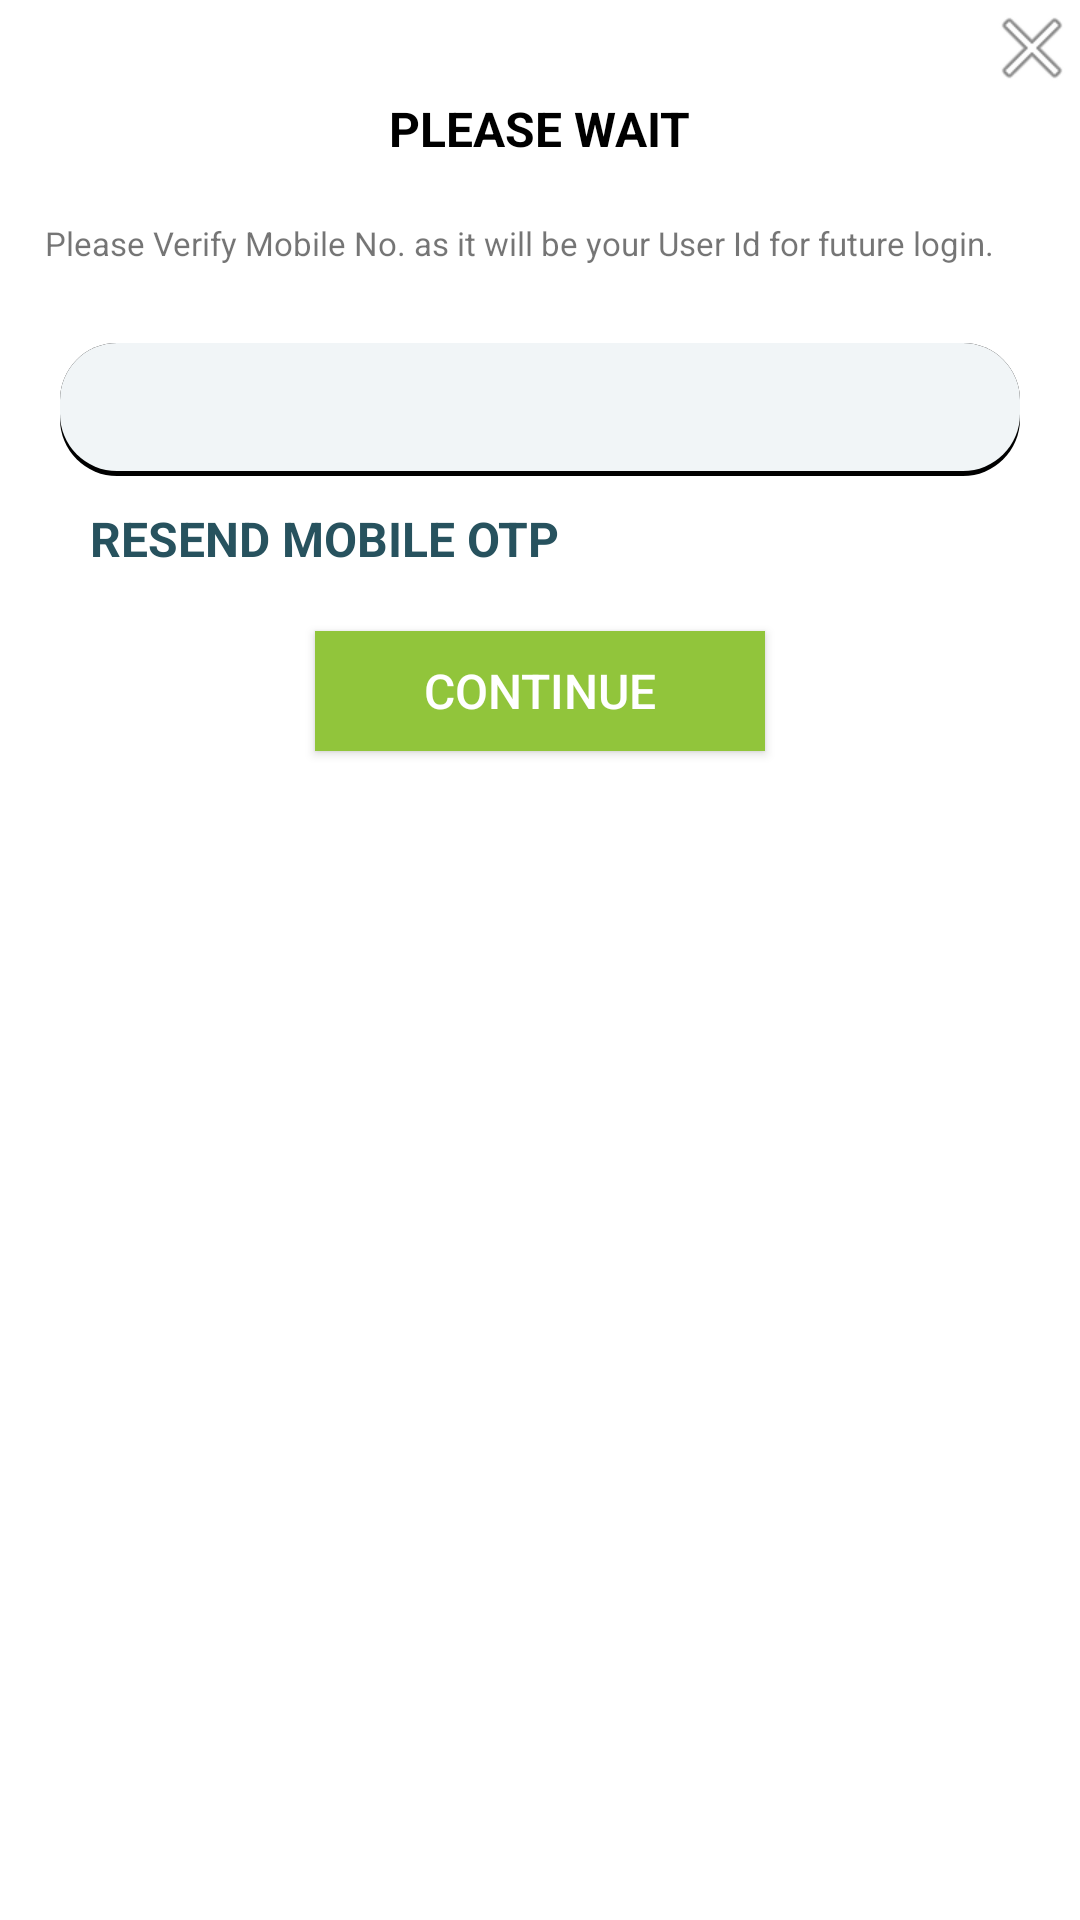

Icon bounding boxes for this 1080x1920 phone screenshot, format (x1, y1, x2, y2):
close clear cancel: (1002, 18, 1062, 78)
